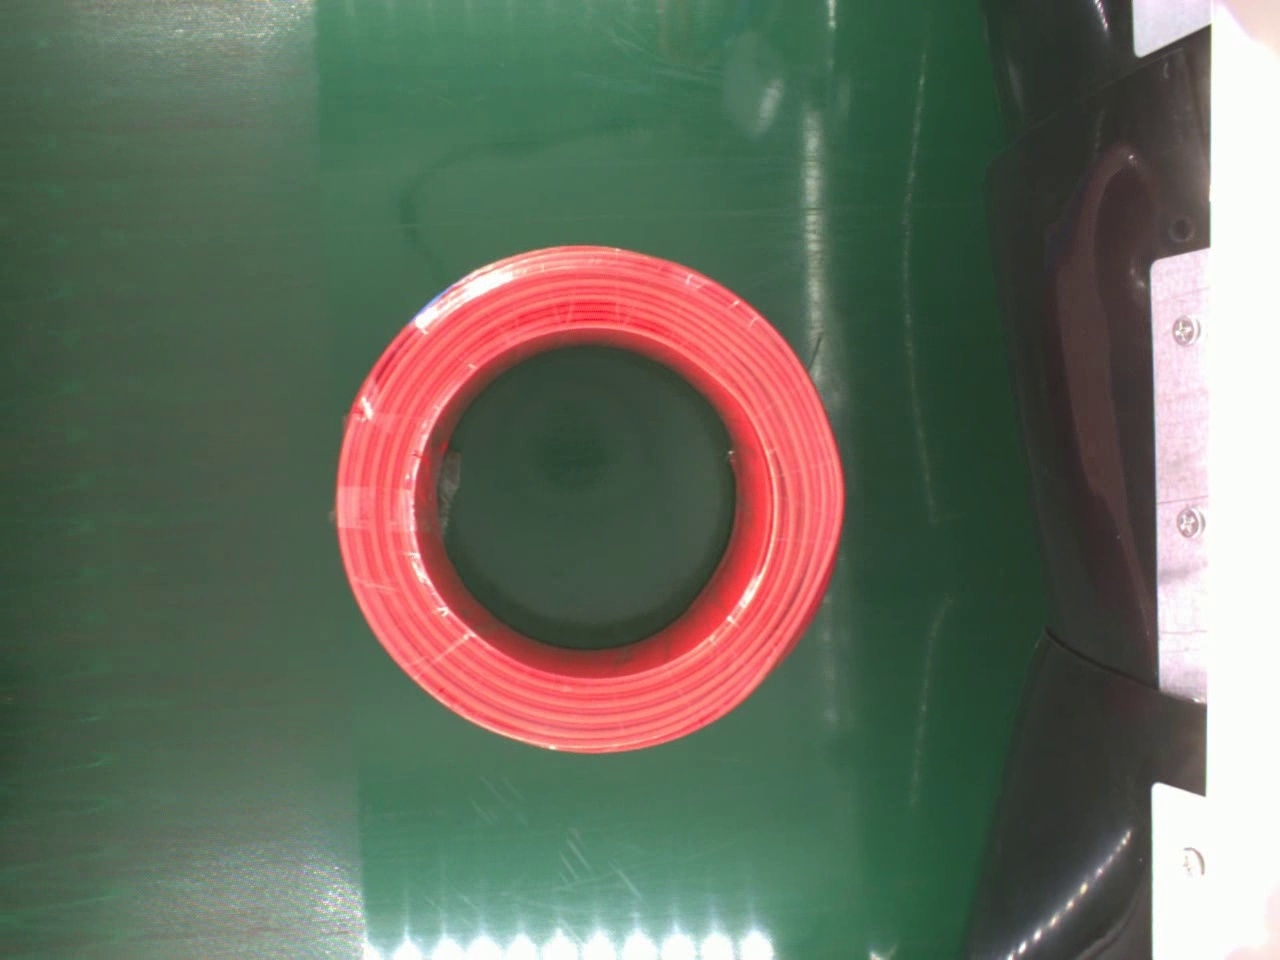red: (329, 239, 862, 765)
